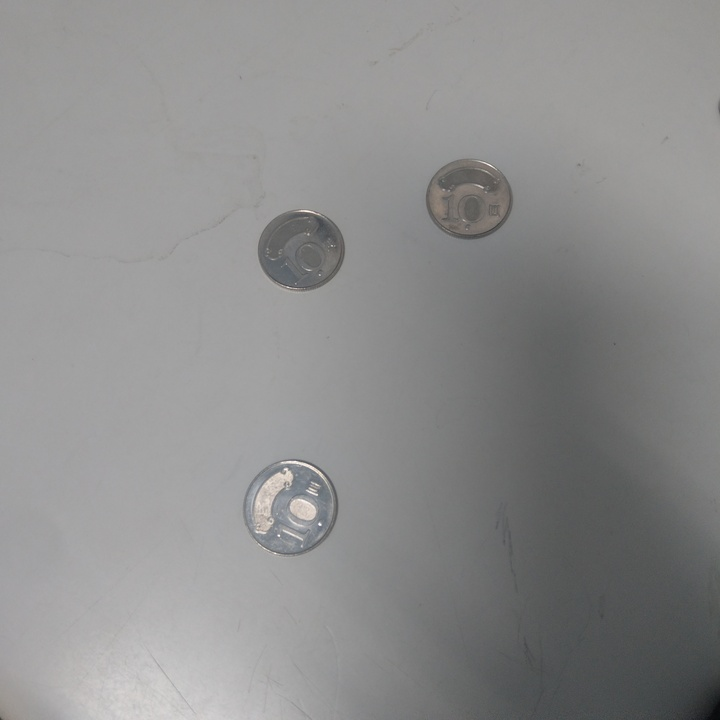10 dollar: (239, 461, 340, 556), (255, 208, 348, 294), (427, 158, 515, 240)
